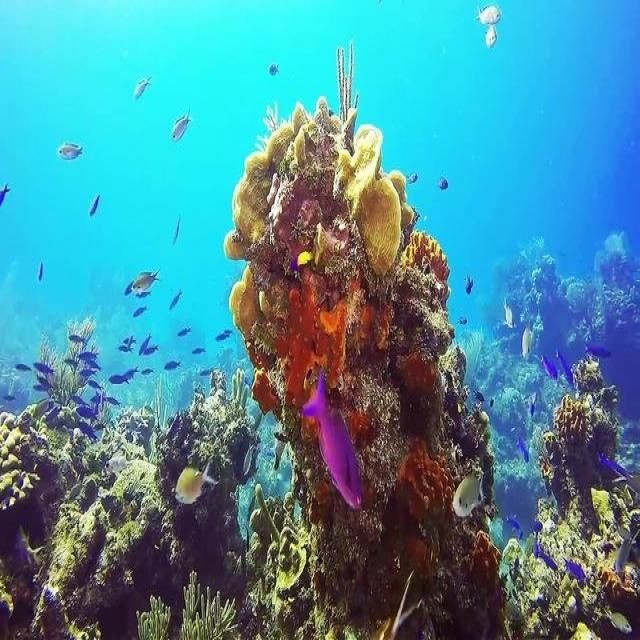fish: (302, 372, 361, 512), (175, 460, 220, 509), (450, 475, 484, 518), (169, 106, 191, 140), (132, 270, 161, 291), (57, 143, 86, 162), (475, 8, 502, 24), (522, 326, 531, 362), (485, 27, 495, 48)
reefs: (224, 102, 331, 260), (332, 124, 417, 274)
